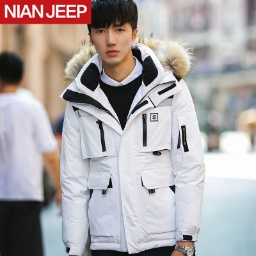face: (85, 1, 140, 64)
